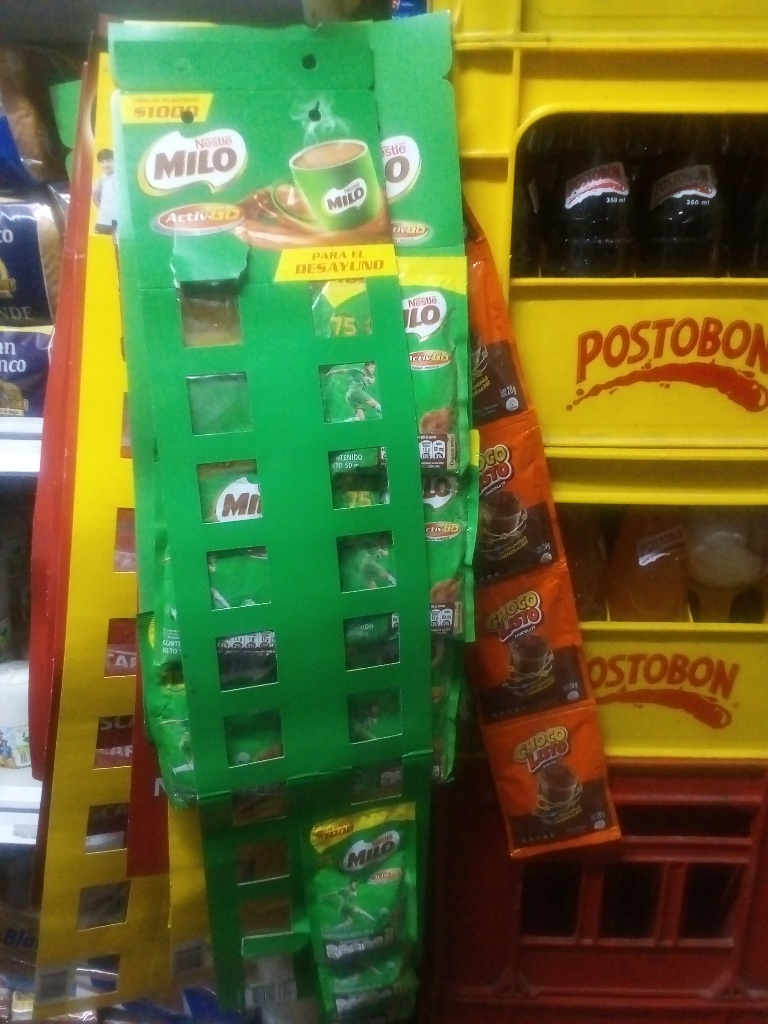COL0170103SOB02000: (483, 707, 635, 863)
